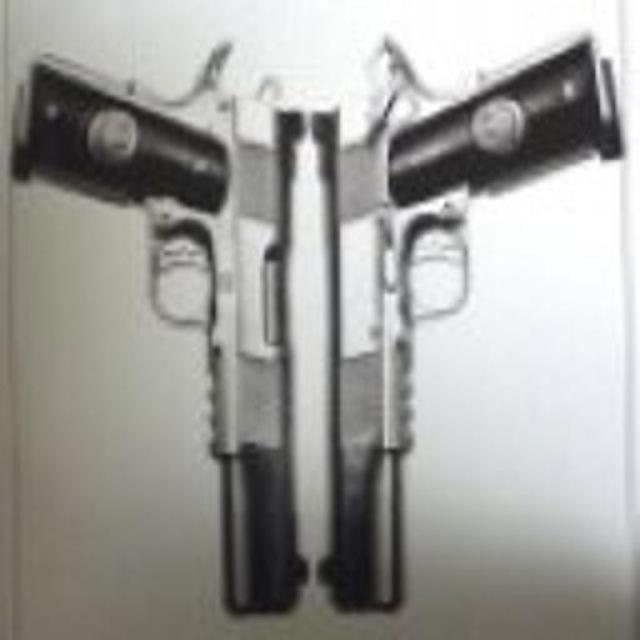pistol: (15, 5, 311, 612), (320, 15, 607, 612)
